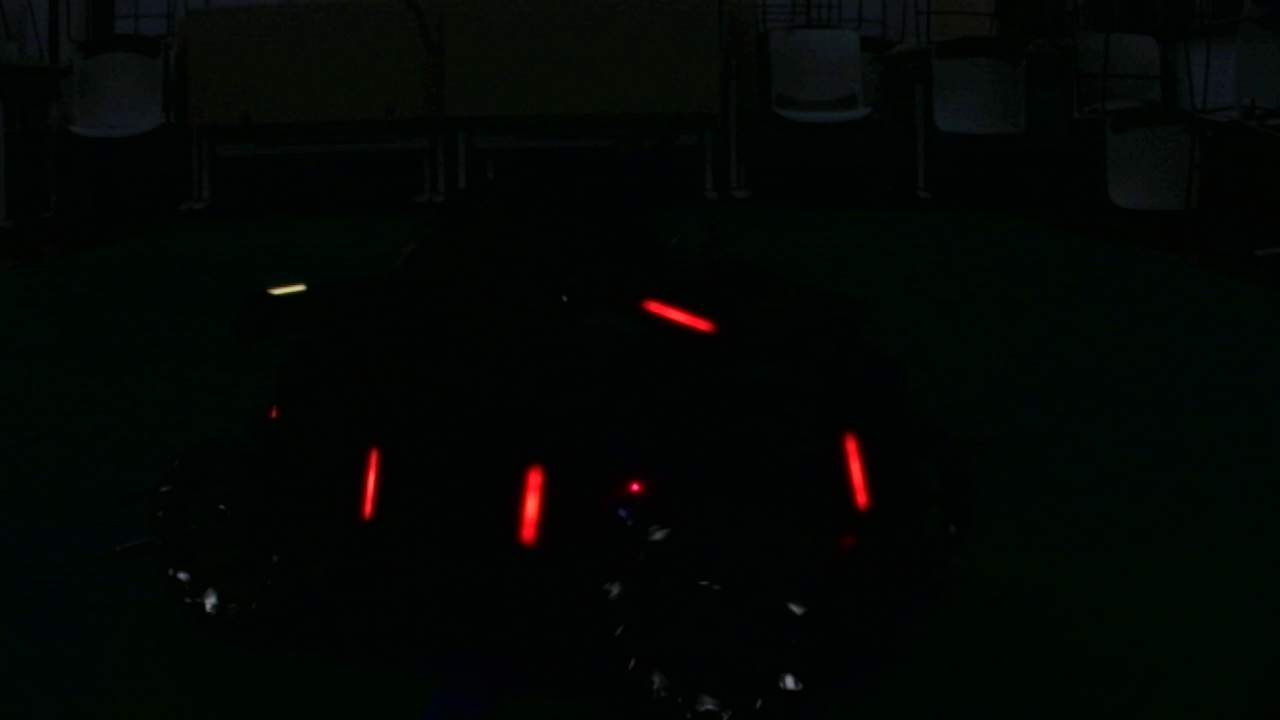lamp: (843, 427, 869, 507), (520, 465, 543, 548), (359, 451, 379, 520)
notpair1: (524, 430, 871, 527)
pair1: (359, 451, 544, 549)
